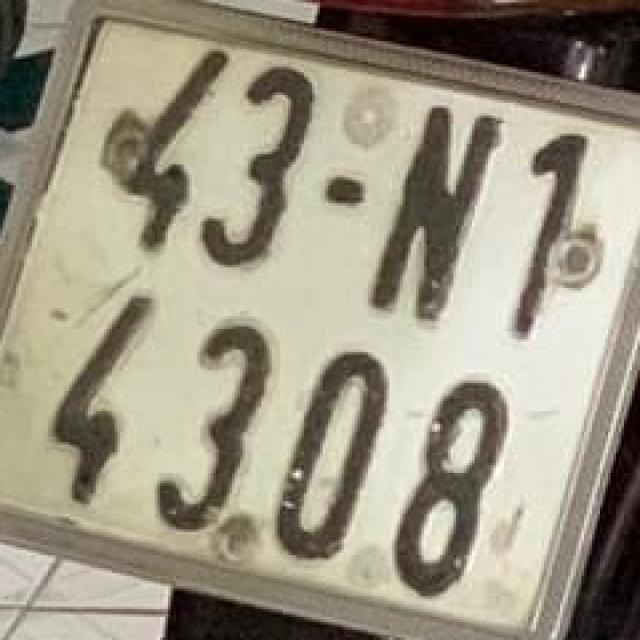0: (269, 342, 392, 568)
1: (501, 123, 611, 340)
3: (198, 51, 318, 278), (149, 318, 272, 534)
4: (88, 29, 216, 268), (40, 278, 152, 514)
8: (387, 372, 509, 602)
N: (372, 92, 500, 330)
